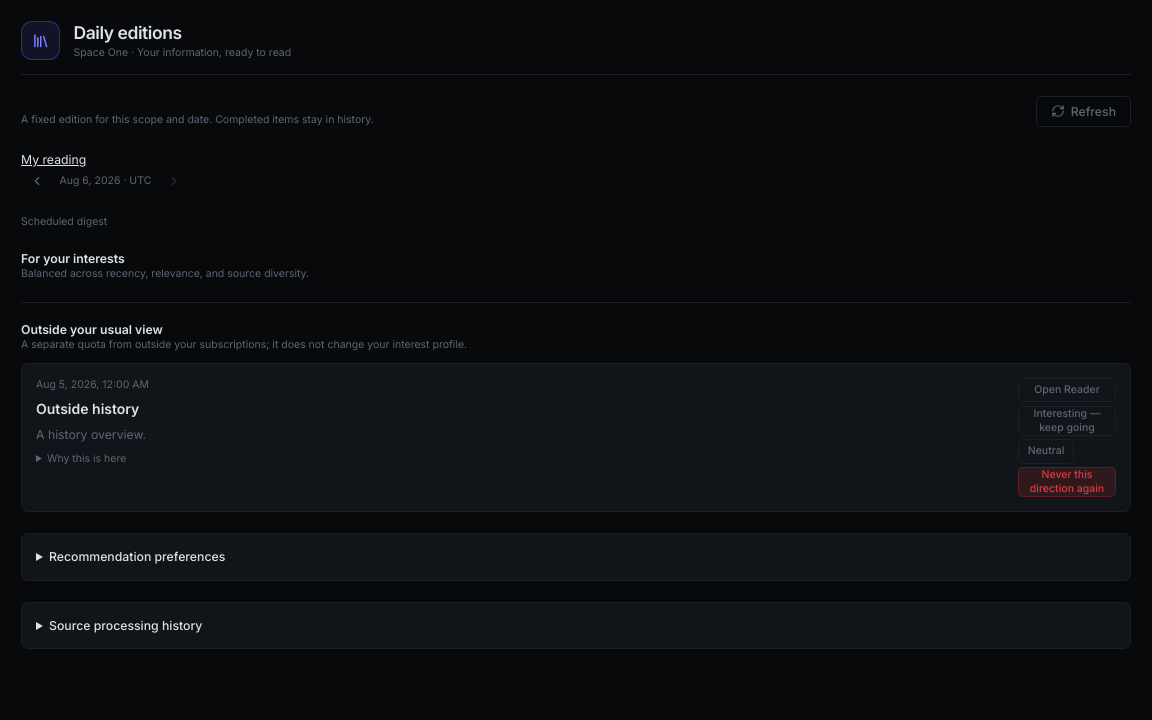
Test: LibraryPage › records explicit serendipity feedback and replaces controls with the saved state
The image size is (1152, 720).
Click the button "Never this direction again". click: [1067, 482]
box: top-left (1018, 467), bottom-right (1116, 497)
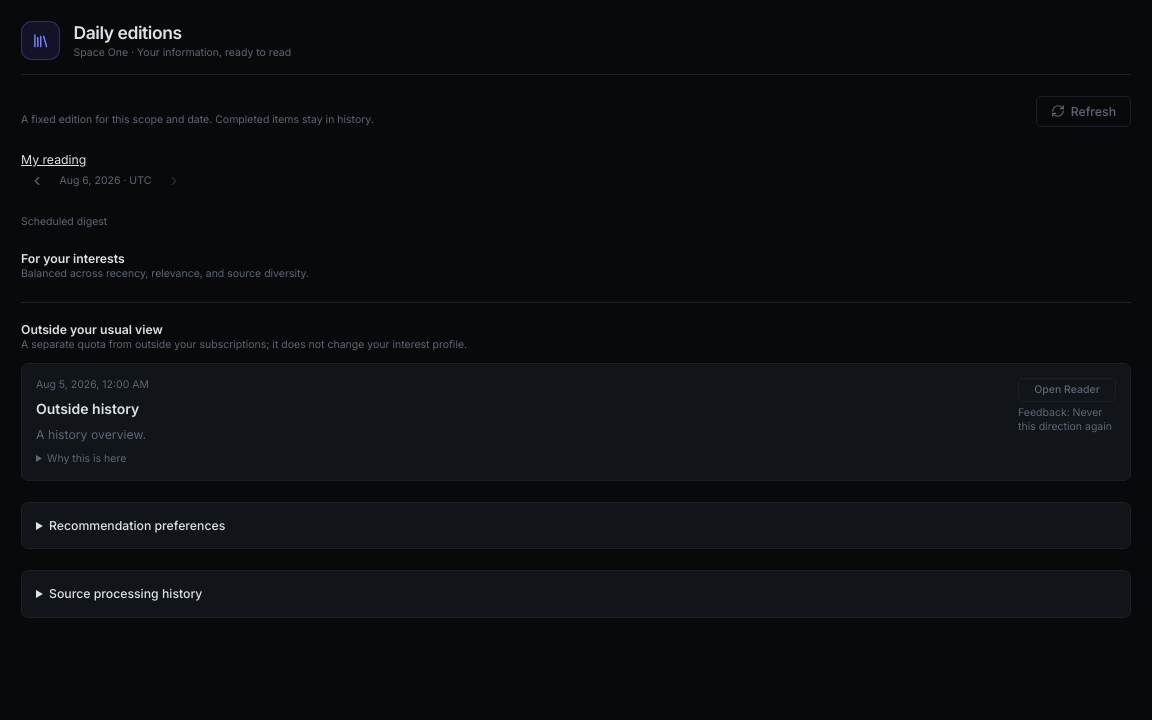
Expected: the text "Feedback: Never this direction again" is shown, top-left (1018, 406), bottom-right (1116, 434)
